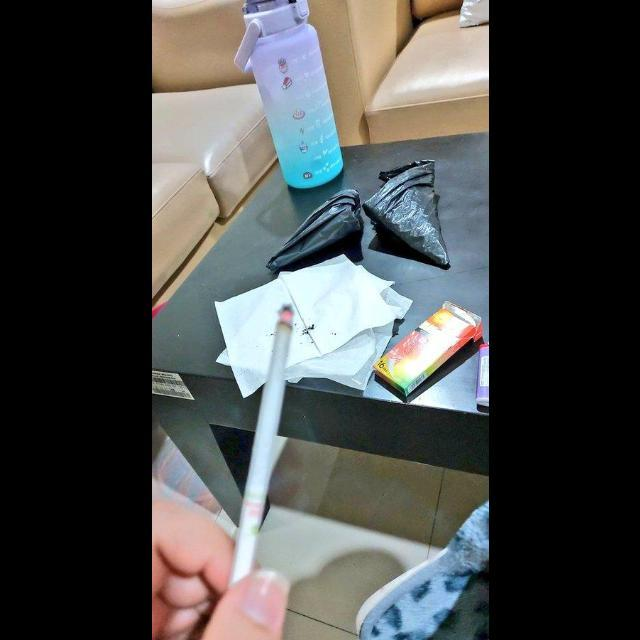rokok: (228, 294, 296, 574)
